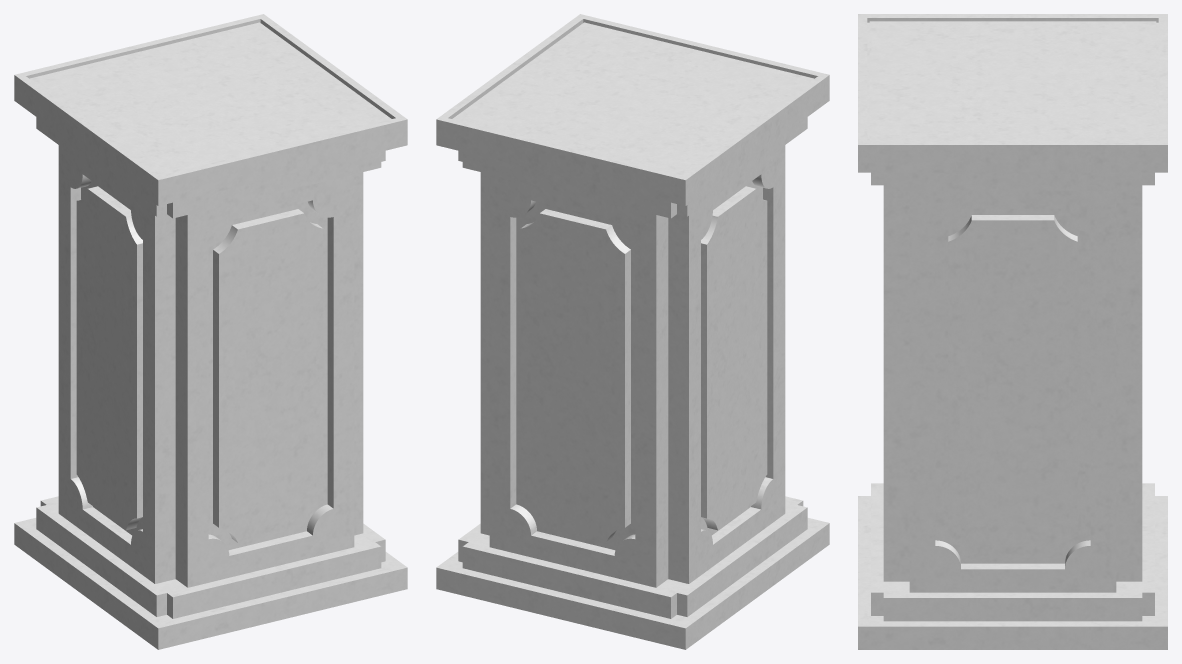
File: Pedestal_1.fbx
3 views of the same model, side by side, from view 1: azimuth 30°, elevation 25°; view 2: azimuth 150°, elevation 25°; view 3: azimuth 270°, elevation 25° (orthographic). The views are drawn at different scales.
Parts seen in each view (by area): view 1: Model; view 2: Model; view 3: Model.
Part boxes in pixels (x1,y1,x2,y2): Model: (14,14,407,649); Model: (436,14,829,649); Model: (858,14,1167,649).
Size of the model in its own units: 600 by 1080 by 600.
